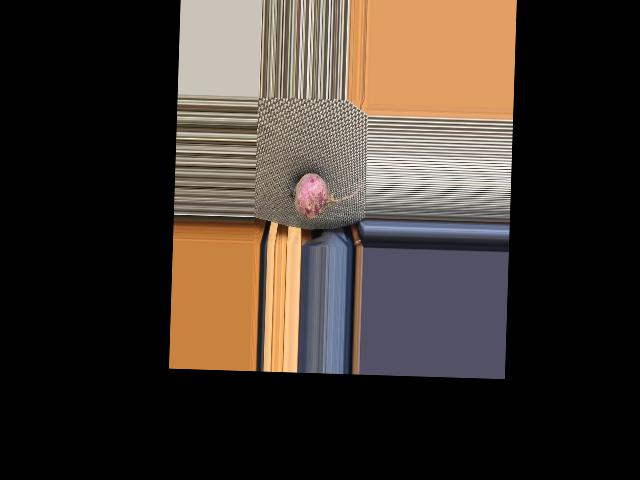beet: (288, 173, 360, 221)
